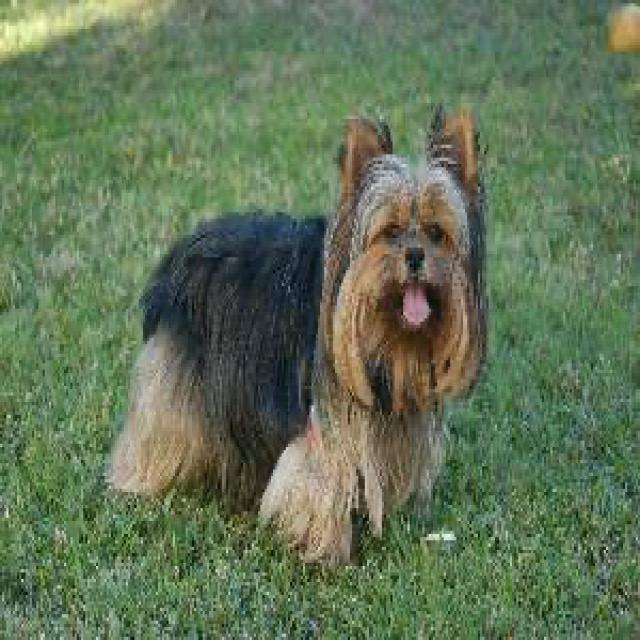dog: (339, 106, 472, 354)
